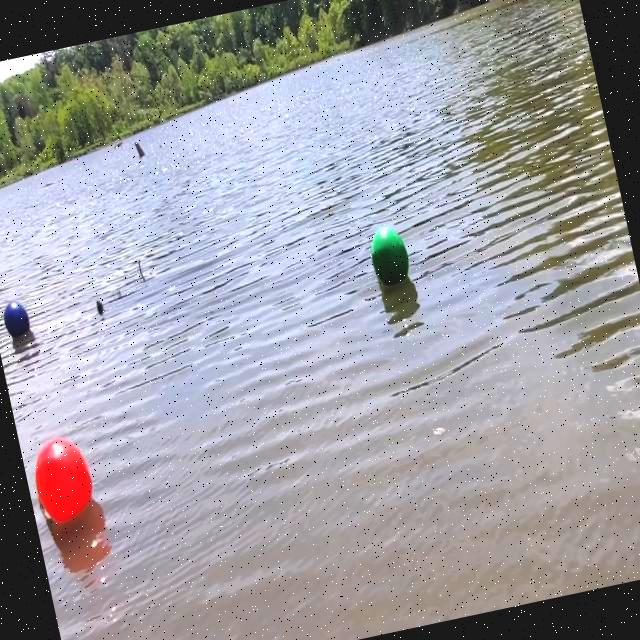buoy: (23, 427, 102, 533), (362, 218, 416, 294), (0, 293, 35, 345)
